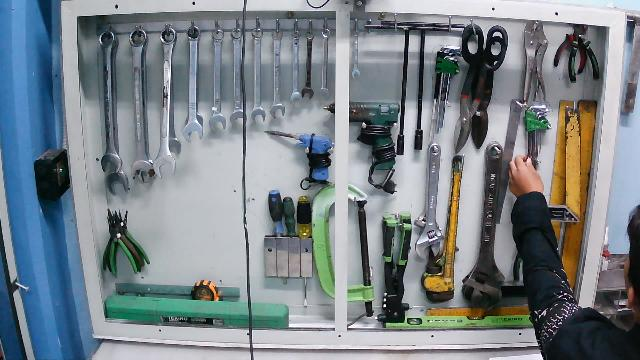kunci_l_bintang: (521, 100, 555, 180)
